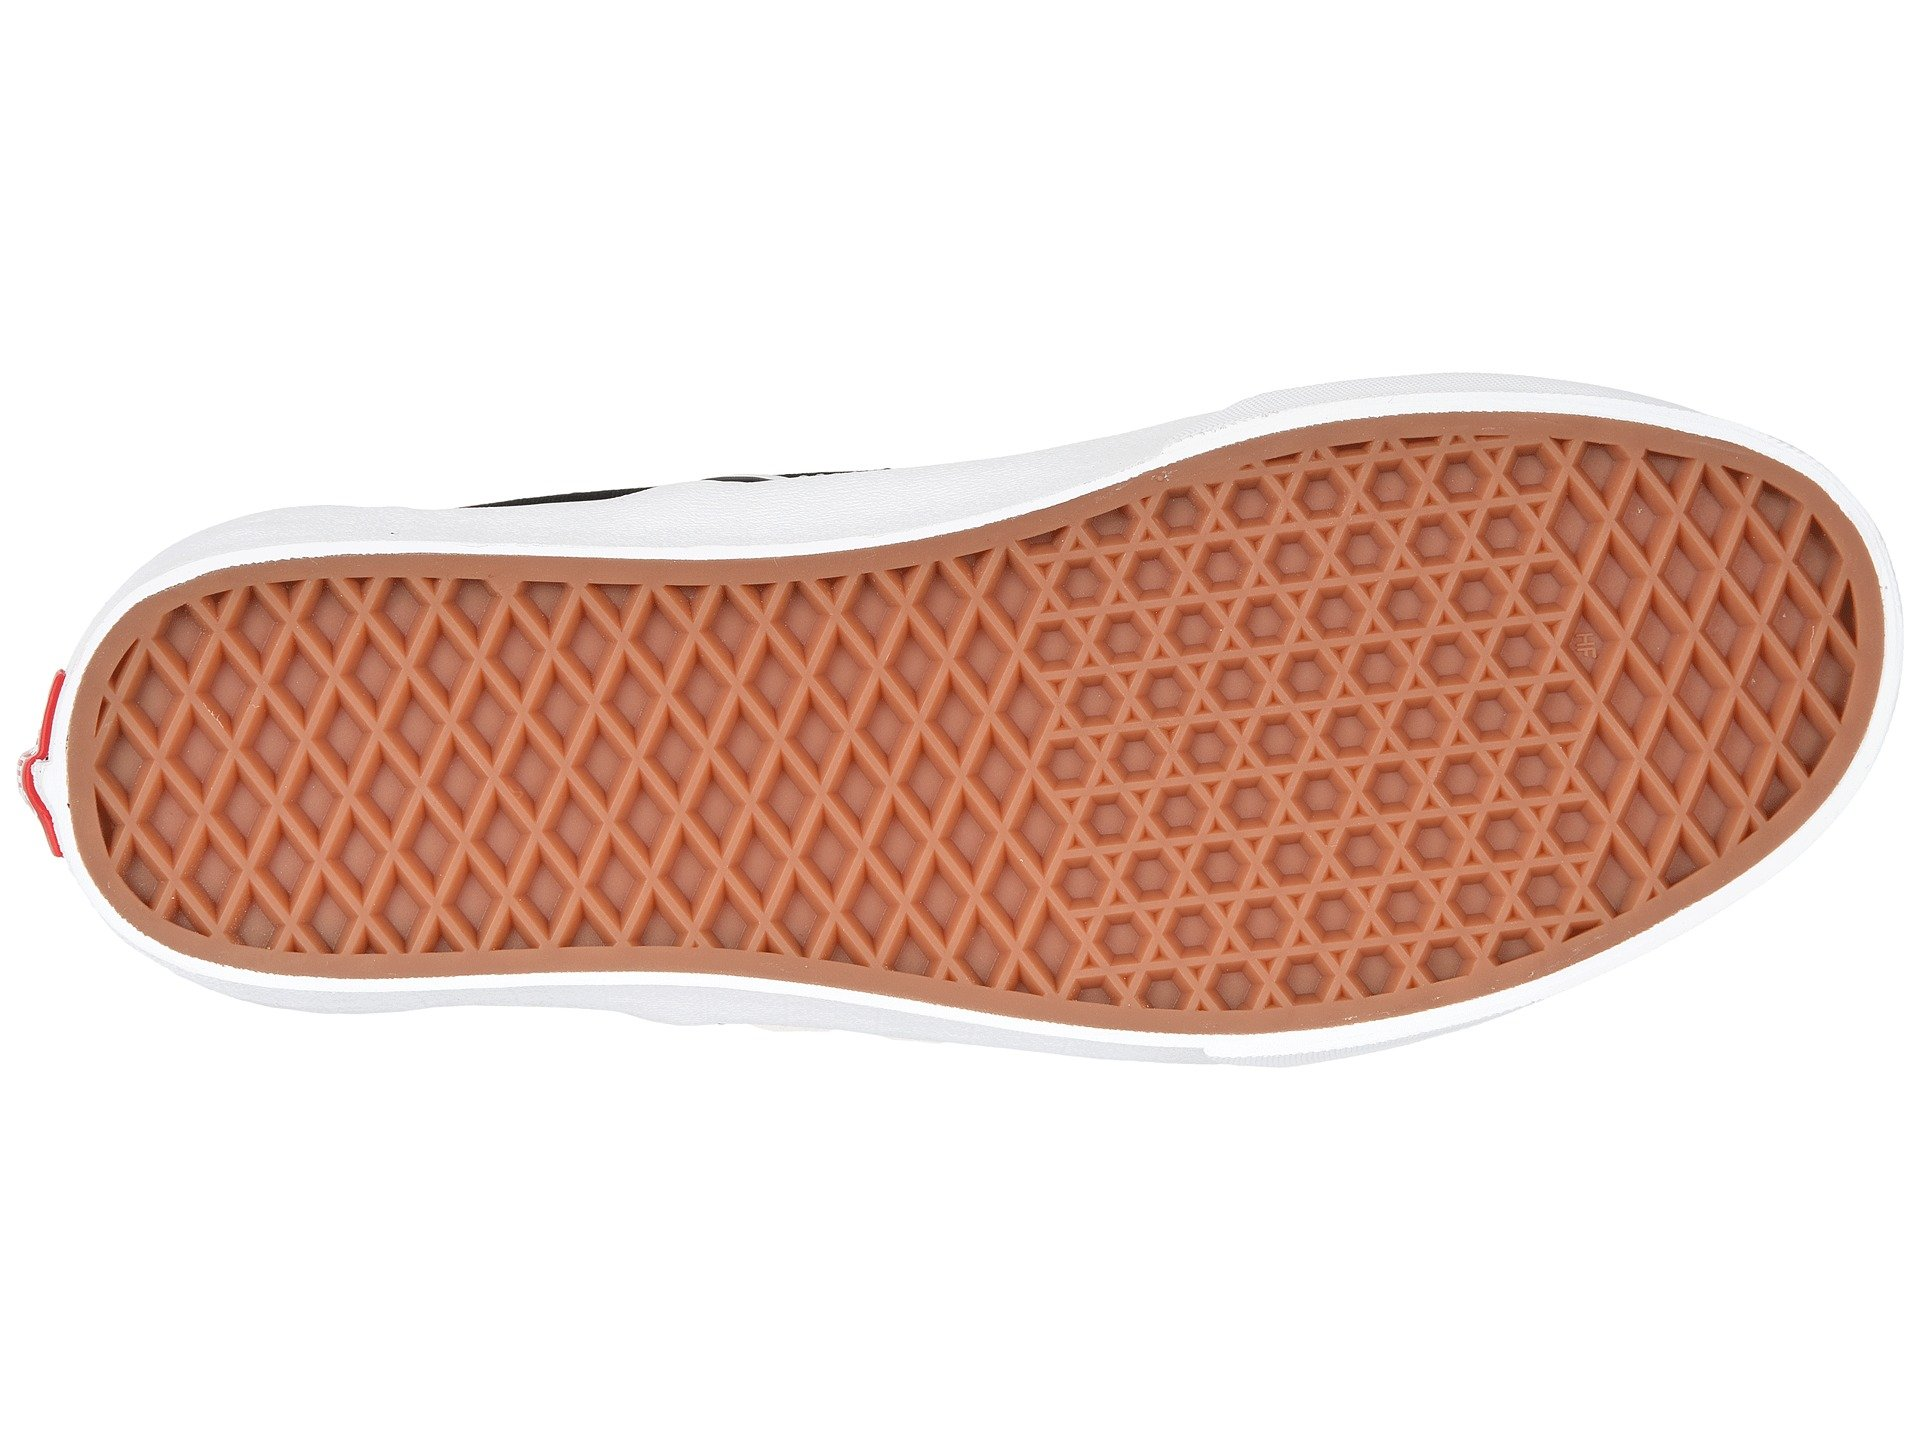polygon: (340, 91, 862, 613)
quad: (900, 191, 1296, 570), (1370, 216, 1754, 576), (94, 272, 355, 534)
triangle: (340, 91, 862, 613), (345, 91, 862, 613)
